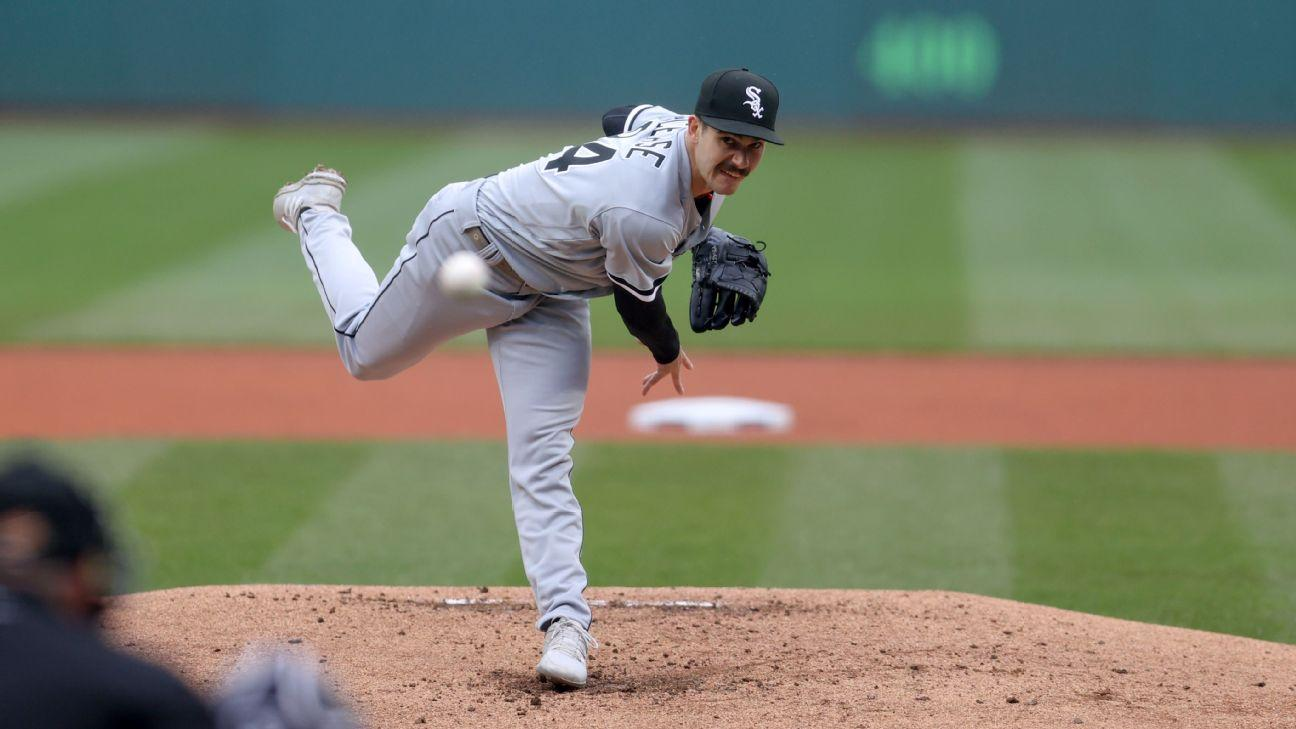baseball: (436, 253, 490, 303)
